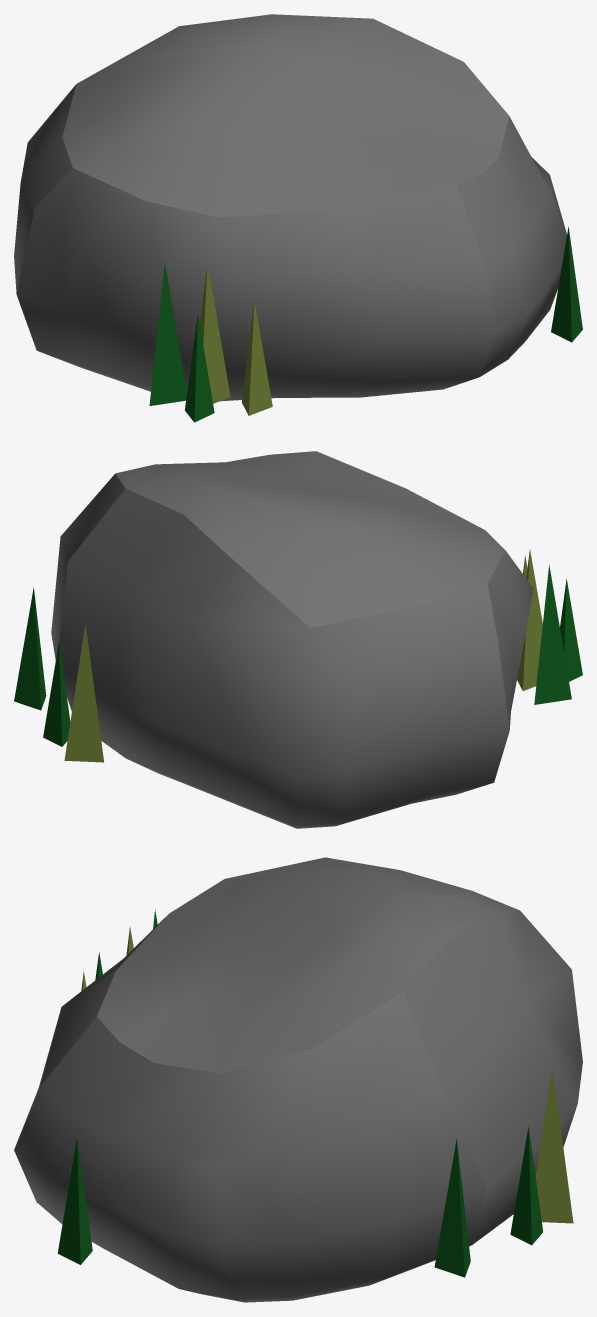
Rendered from rock3.glb.
The picture shows the model from 3 angles, top to bottom: view 1: azimuth 30°, elevation 25°; view 2: azimuth 150°, elevation 25°; view 3: azimuth 270°, elevation 25°; orthographic projection. The views are drawn at different scales.
Visible parts, largest first — view 1: Rock3; view 2: Rock3; view 3: Rock3.
Boxes of the visible parts, bbox=[...] form: Rock3: bbox=[14, 14, 582, 422]; Rock3: bbox=[14, 451, 582, 828]; Rock3: bbox=[14, 857, 582, 1302].
Size of the model in its own units: 2.04 by 1.17 by 1.94.
Materials: 1 (1 with a texture image).
